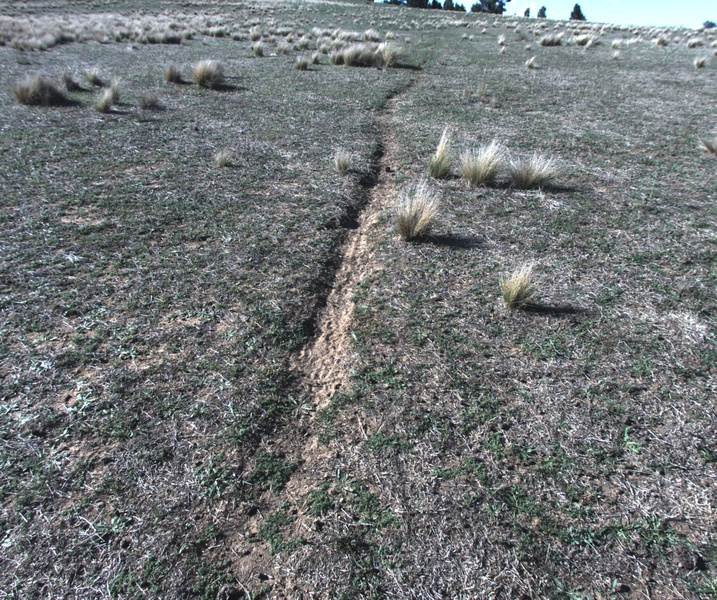st: (388, 180, 442, 245), (423, 118, 455, 183), (496, 261, 540, 307), (462, 144, 510, 184), (14, 72, 60, 109), (512, 151, 559, 184), (345, 43, 383, 71), (331, 144, 358, 176), (196, 62, 220, 89), (78, 64, 107, 86), (162, 62, 184, 86), (93, 89, 113, 113), (572, 31, 596, 50), (539, 31, 563, 49), (381, 41, 398, 66), (216, 150, 234, 169), (293, 54, 310, 74), (60, 70, 75, 91), (104, 79, 120, 98), (331, 43, 343, 66), (252, 44, 266, 62), (695, 52, 707, 72), (522, 54, 536, 67), (496, 43, 507, 56), (688, 37, 702, 47), (495, 36, 506, 47), (311, 54, 320, 66)
